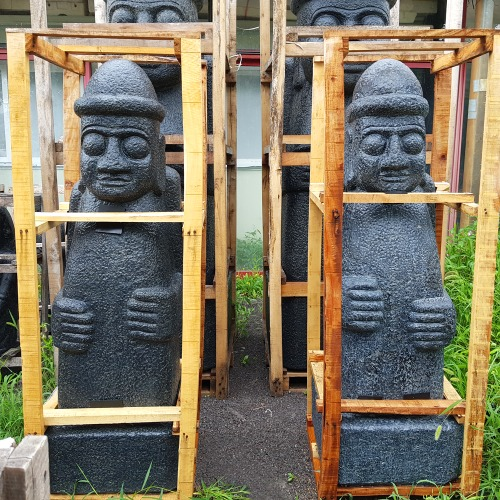Stone Statue: (30, 48, 204, 500), (317, 46, 475, 500)
